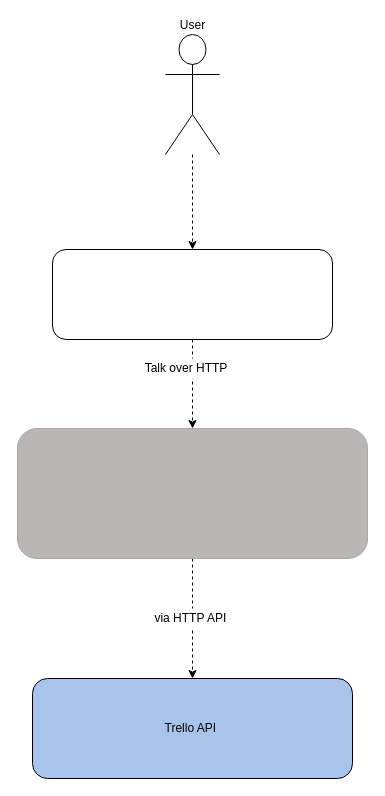
Some shapes in this 385 by 796 pixel diagram are drawn without their labels. Here are the shapes that lost their labels. From the top down, the box of each, then its label:
(52, 248, 332, 340): Web Browser (Client)
(16, 428, 368, 558): To Do Application
